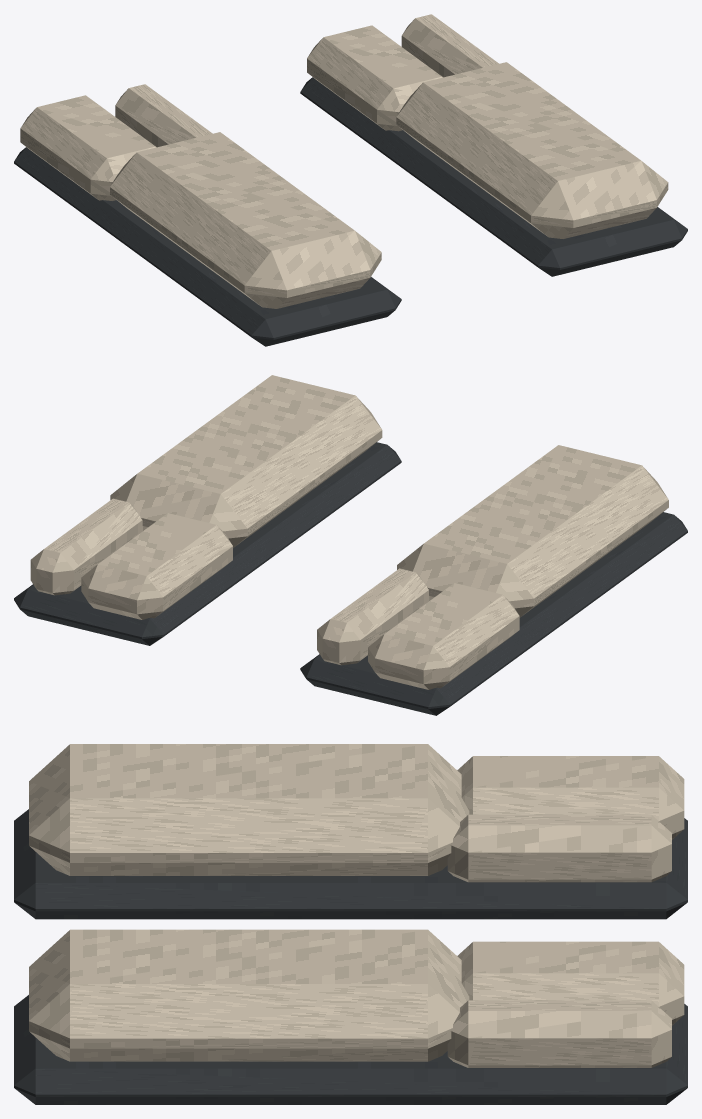
File: tabi_gi.glb
The picture shows the model from 3 angles, top to bottom: view 1: azimuth 30°, elevation 25°; view 2: azimuth 150°, elevation 25°; view 3: azimuth 270°, elevation 25°; orthographic projection. The views are drawn at different scales.
Visible parts, largest first — view 1: block_shoe or boot upper (×2), block_low shaped sole (×2), block_split toe (×2), block_big toe pocket (×2); view 2: block_shoe or boot upper (×2), block_low shaped sole (×2), block_split toe (×2), block_big toe pocket (×2); view 3: block_shoe or boot upper (×2), block_low shaped sole (×2), block_big toe pocket (×2), block_split toe (×2).
Boxes of the visible parts, box(x1,y1,x2,y2) form: block_shoe or boot upper (×2): box(110, 62, 668, 308); block_low shaped sole (×2): box(14, 77, 687, 346); block_split toe (×2): box(20, 25, 442, 200); block_big toe pocket (×2): box(115, 14, 498, 147); block_shoe or boot upper (×2): box(110, 375, 668, 617); block_low shaped sole (×2): box(14, 442, 687, 715); block_split toe (×2): box(81, 513, 519, 689); block_big toe pocket (×2): box(30, 498, 429, 665); block_shoe or boot upper (×2): box(29, 744, 469, 1061); block_low shaped sole (×2): box(14, 809, 687, 1104); block_big toe pocket (×2): box(447, 814, 671, 1067); block_split toe (×2): box(457, 756, 684, 1025).
Bounding box in the file's own units: 0.1896 × 0.0339 × 0.1909.
1 material, 1 textured.
